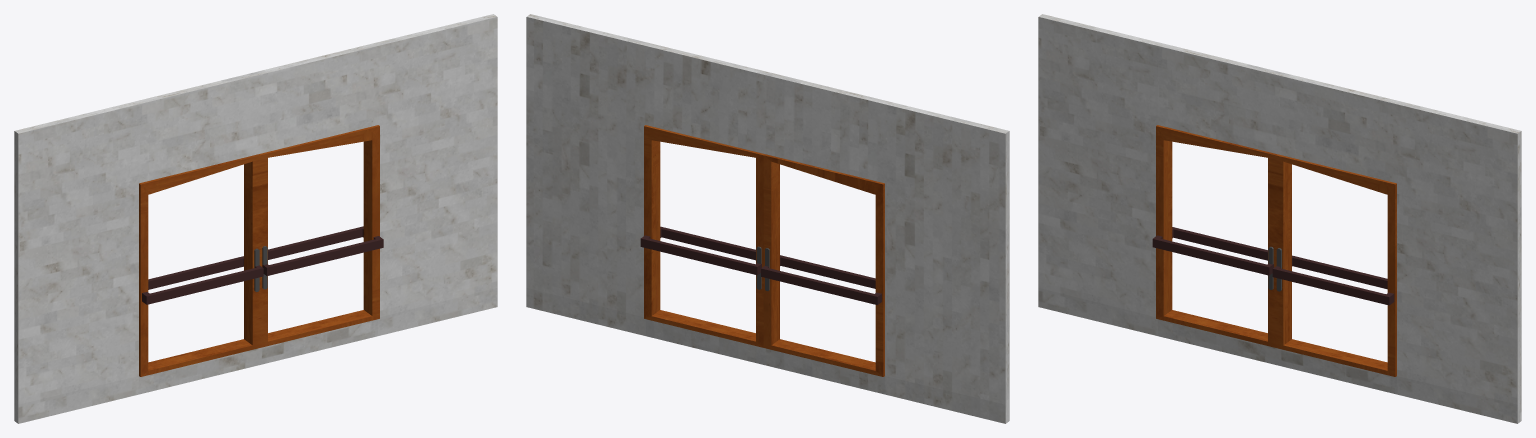
The model's file is DoorWall .fbx.
3 renders of one model, left to right at view 1: azimuth 30°, elevation 25°; view 2: azimuth 150°, elevation 25°; view 3: azimuth 330°, elevation 25°, orthographic.
Visible parts, largest first — view 1: Cube, Cube.009, Cube.002, Cube.004, Cube.006, Cube.008; view 2: Cube, Cube.009, Cube.006, Cube.008, Cube.004, Cube.002; view 3: Cube, Cube.009, Cube.004, Cube.002, Cube.006, Cube.008.
Part boxes in pixels (x1,y1,x2,y2): Cube: (14,14,497,423); Cube.009: (139,125,379,376); Cube.002: (142,265,263,304); Cube.004: (262,236,383,275); Cube.006: (268,226,363,259); Cube.008: (148,256,243,289); Cube: (526,14,1009,423); Cube.009: (644,125,884,376); Cube.006: (640,235,761,275); Cube.008: (761,265,881,304); Cube.004: (660,226,755,260); Cube.002: (780,255,875,288); Cube: (1038,14,1521,423); Cube.009: (1156,125,1396,376); Cube.004: (1272,266,1394,305); Cube.002: (1152,235,1273,275); Cube.006: (1292,255,1387,289); Cube.008: (1172,227,1267,260).
Size of the model in its own units: 738 by 427 by 47.69.
